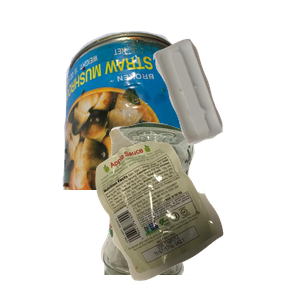glass: (98, 120, 286, 300)
metal: (60, 28, 300, 208)
plastic: (150, 36, 300, 173)
trash: (93, 126, 300, 300)
